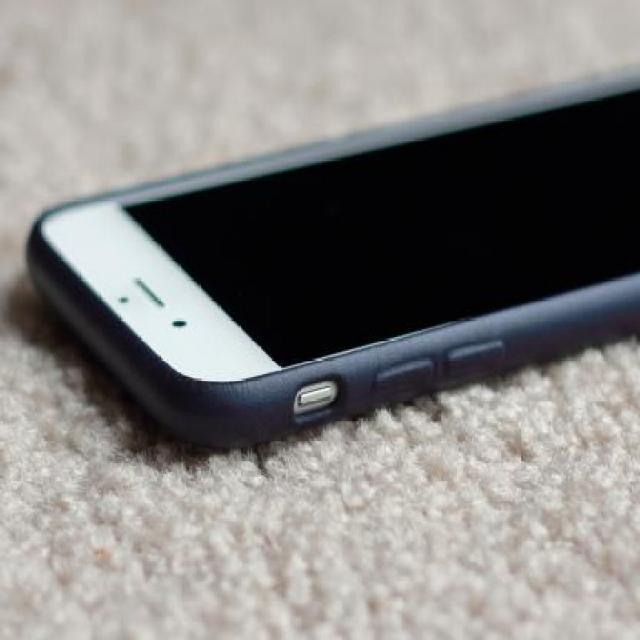phone: (24, 63, 640, 454)
